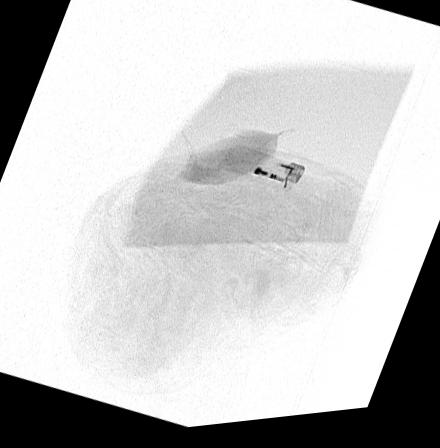Lighter: (231, 151, 303, 199)
